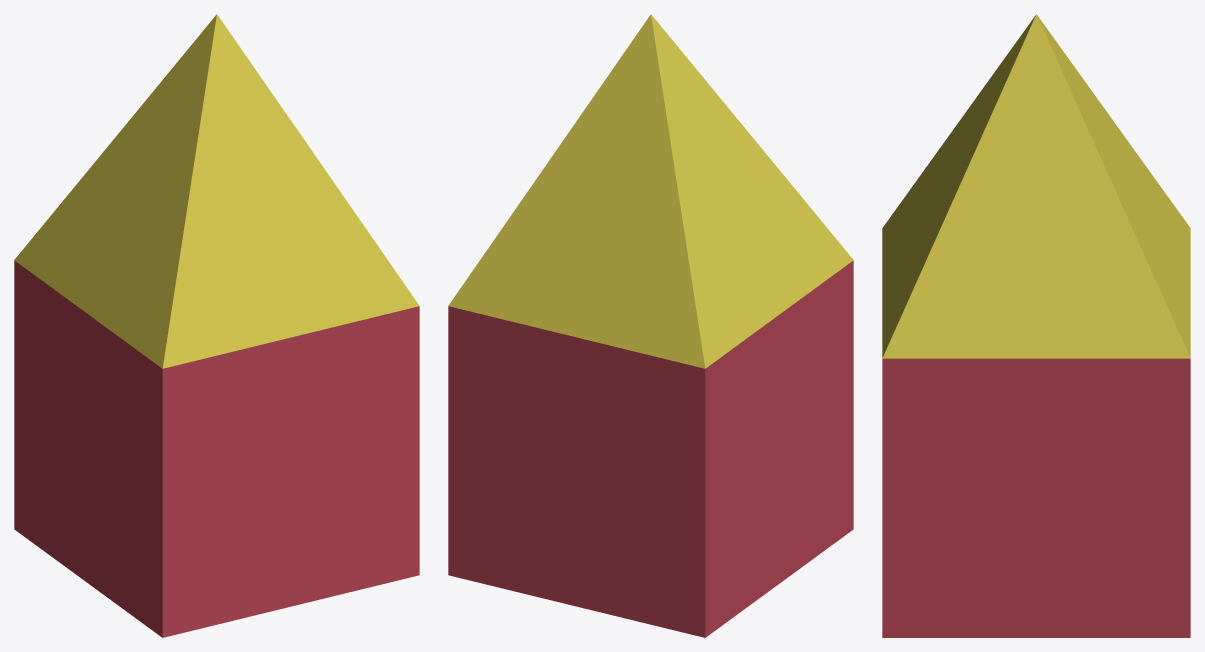
The model's file is house.glb.
3 renders of one model, left to right at view 1: azimuth 30°, elevation 25°; view 2: azimuth 150°, elevation 25°; view 3: azimuth 270°, elevation 25°, orthographic. The views are drawn at different scales.
Visible parts, largest first — view 1: Mesh_Mesh_head_geo.001_lambert2SG.001; view 2: Mesh_Mesh_head_geo.001_lambert2SG.001; view 3: Mesh_Mesh_head_geo.001_lambert2SG.001.
Part boxes in pixels (left/top/right/bottom): Mesh_Mesh_head_geo.001_lambert2SG.001: left=14, top=14, right=419, bottom=637; Mesh_Mesh_head_geo.001_lambert2SG.001: left=448, top=14, right=853, bottom=637; Mesh_Mesh_head_geo.001_lambert2SG.001: left=882, top=14, right=1190, bottom=637.
Bounding box in the file's own units: 0.02 × 0.04 × 0.02.
